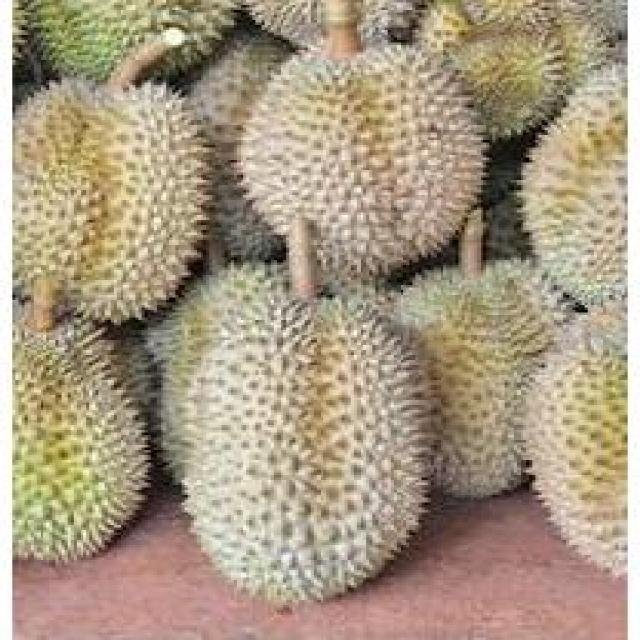fruit: (132, 255, 462, 635), (222, 15, 508, 313), (15, 58, 240, 348), (12, 298, 172, 570), (502, 290, 630, 628), (498, 8, 631, 328), (12, 2, 265, 108)
